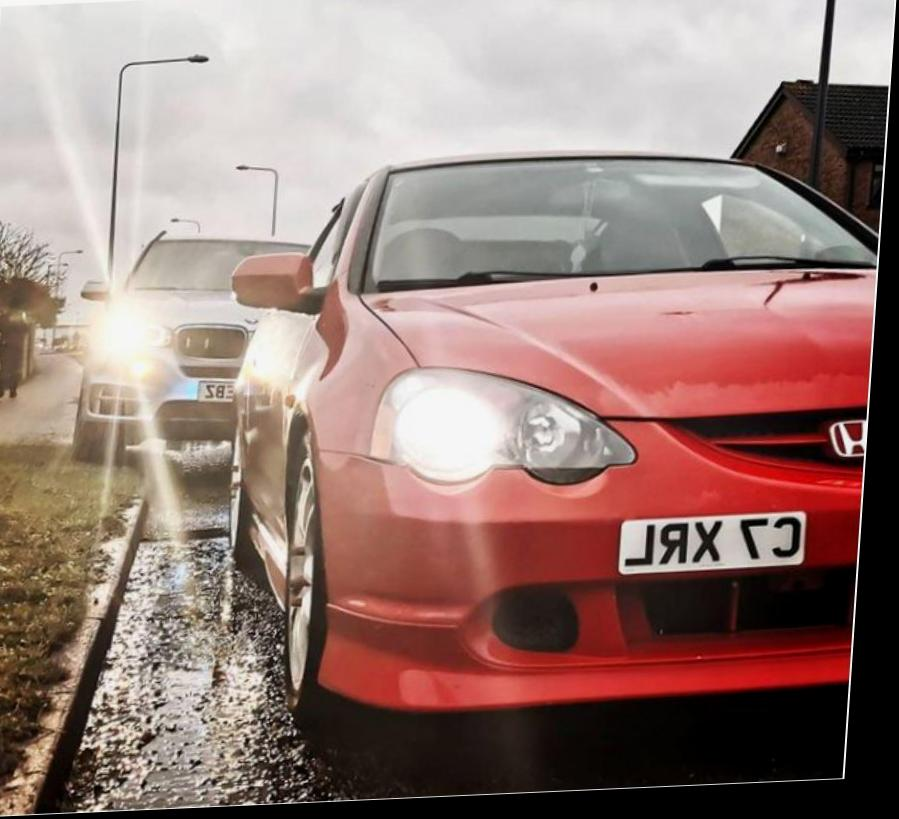License_Plate: (605, 496, 816, 589)
